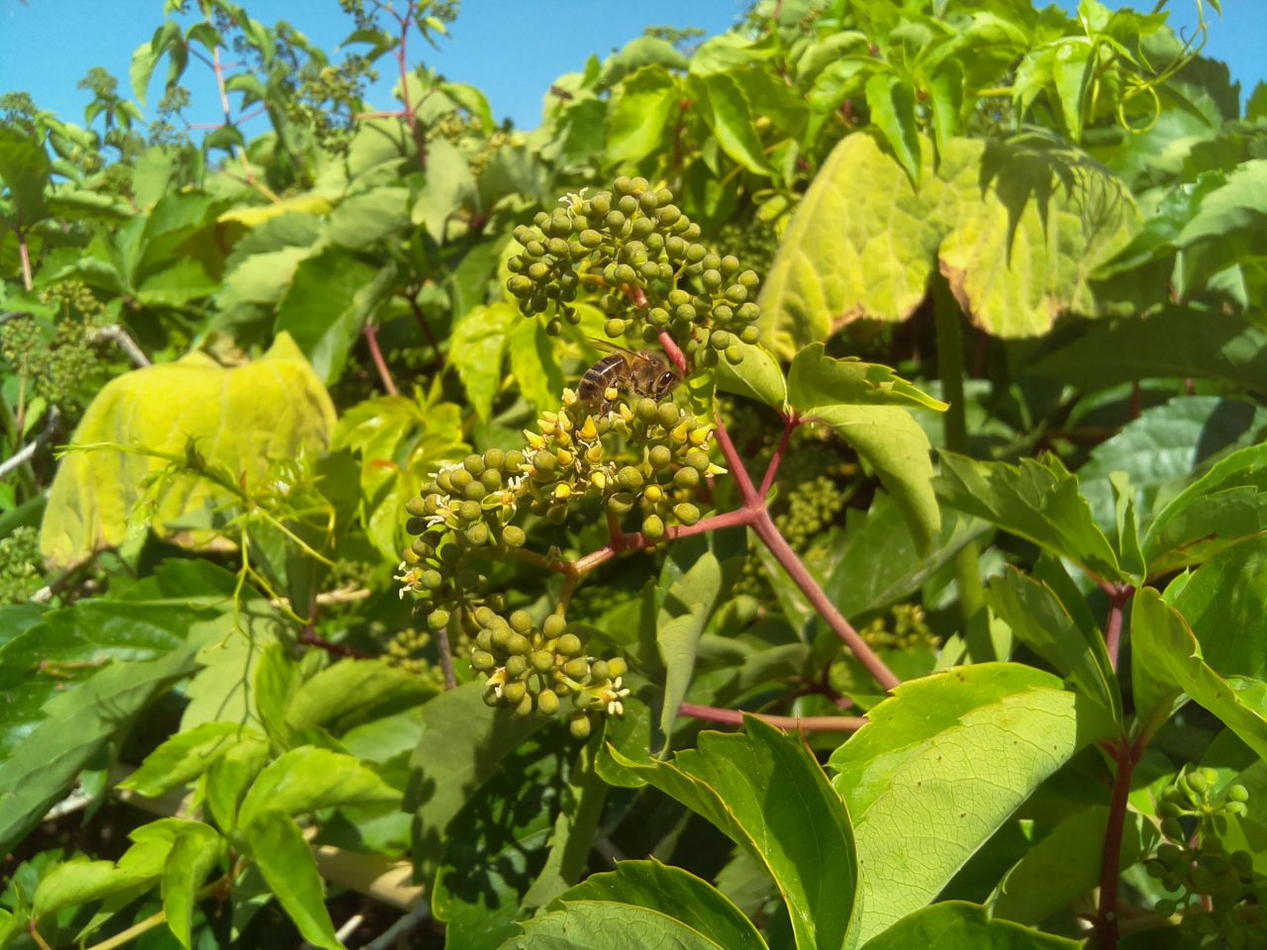Apis mellifera: (564, 334, 699, 414)
